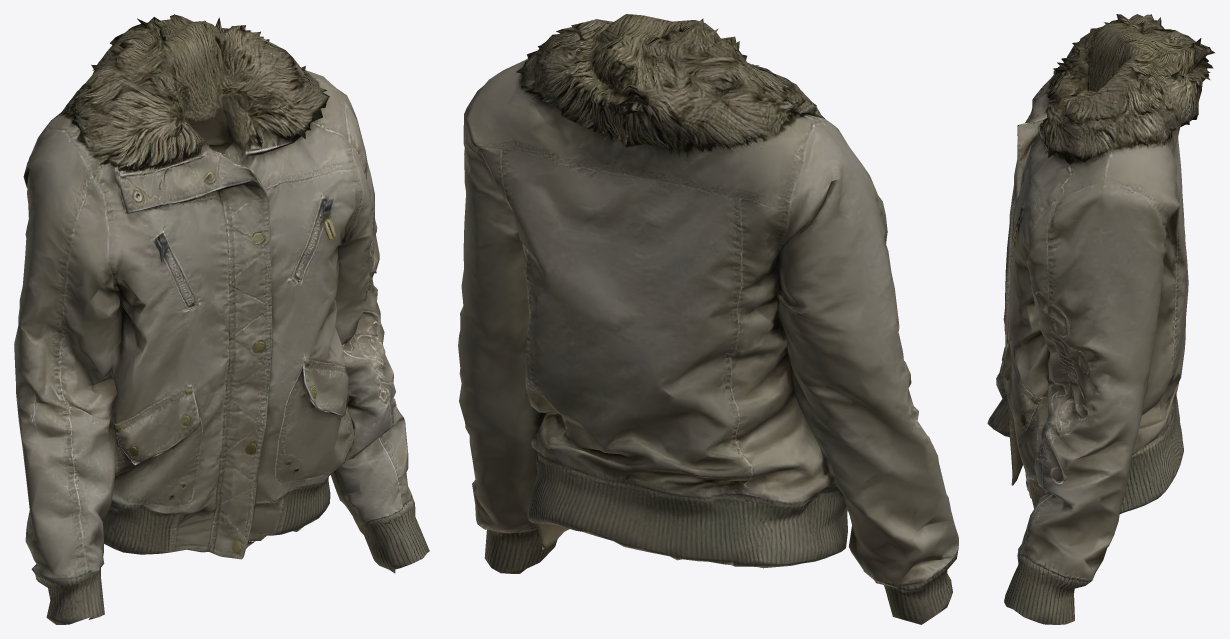
3 renders of one model, left to right at view 1: azimuth 30°, elevation 25°; view 2: azimuth 150°, elevation 25°; view 3: azimuth 270°, elevation 25°, orthographic. The views are drawn at different scales.
Parts seen in each view (by area): view 1: tripo_node_35c84db3-6b58-40a1-8b4e-9897cbf26bcf; view 2: tripo_node_35c84db3-6b58-40a1-8b4e-9897cbf26bcf; view 3: tripo_node_35c84db3-6b58-40a1-8b4e-9897cbf26bcf.
Boxes of the visible parts, <box> form: tripo_node_35c84db3-6b58-40a1-8b4e-9897cbf26bcf: <box>14,14,429,624</box>; tripo_node_35c84db3-6b58-40a1-8b4e-9897cbf26bcf: <box>458,14,958,624</box>; tripo_node_35c84db3-6b58-40a1-8b4e-9897cbf26bcf: <box>987,14,1214,624</box>.
Bounding box in the file's own units: 0.7539 × 1 × 0.3997.
1 material, 1 textured.
